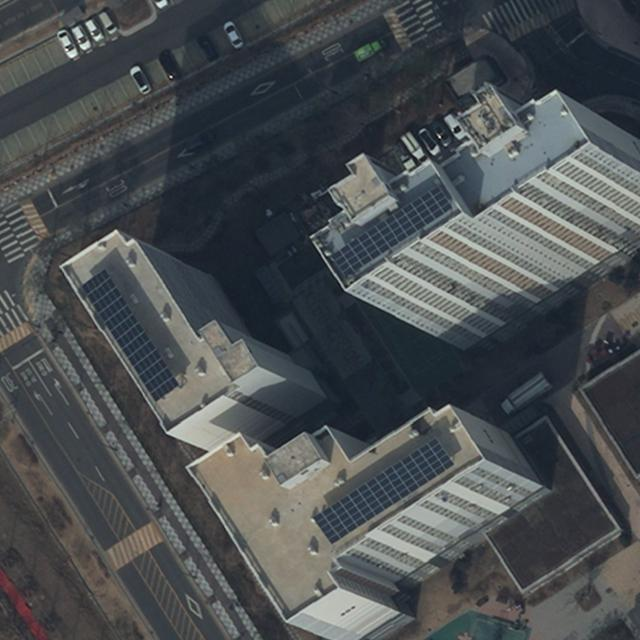panel: (311, 436, 456, 544), (80, 268, 179, 402), (330, 184, 455, 279)
